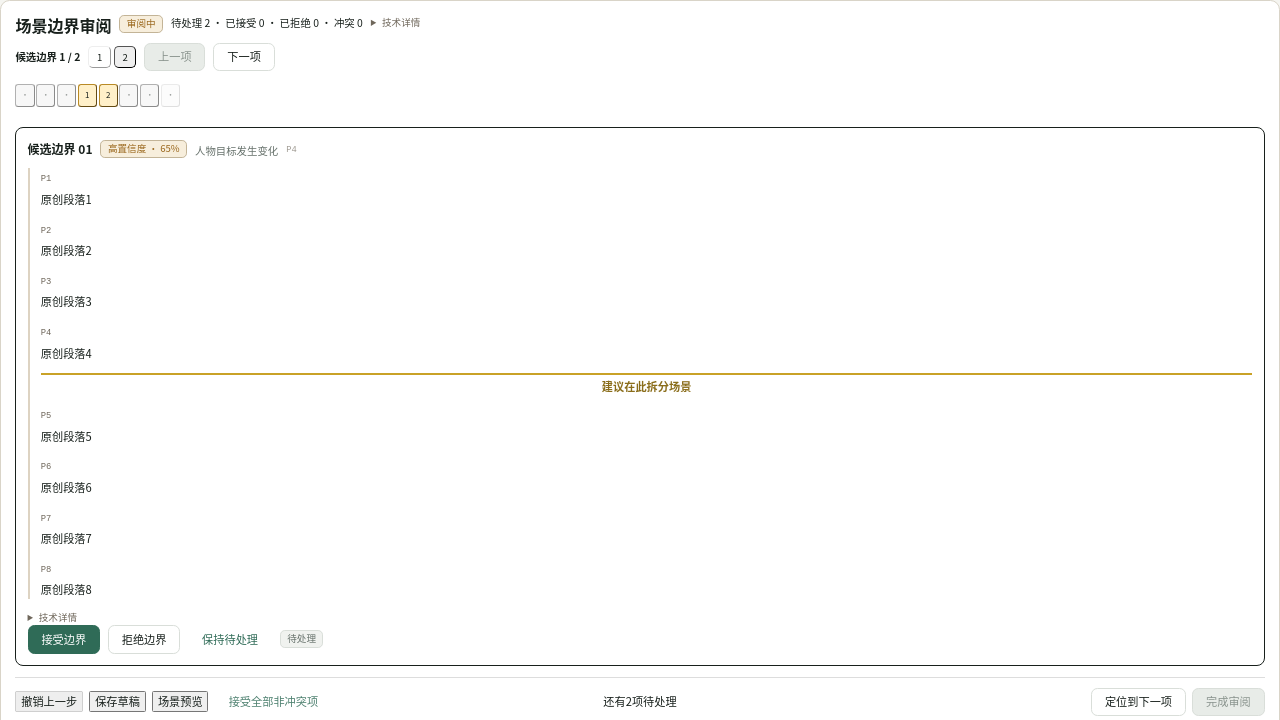
it: 场景边界审阅 › 两个候选时 Header 与页码共用同一数量
Expected: the text with test id "review-candidate-count" reads "候选边界 1 / 2", [15,49,80,65]
Expected: the tab with test id "review-candidate-page-1" is shown, [88,46,111,68]
Click the tab with test id "review-candidate-page-2" at (125,57), box [114,46,136,68]
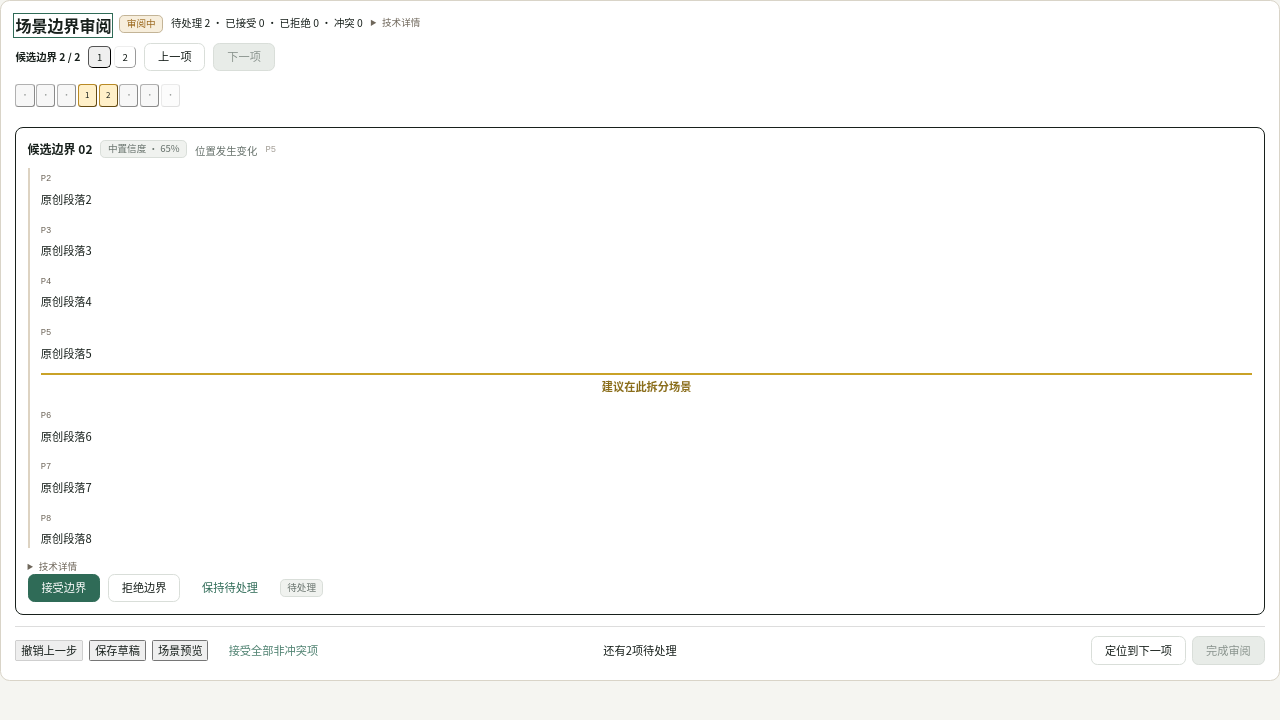
Now the text with test id "review-candidate-count" reads "候选边界 2 / 2", box [15,49,80,65]
Now the text with test id "decision-reason-T0002" reads "位置发生变化", box [195,143,257,158]
